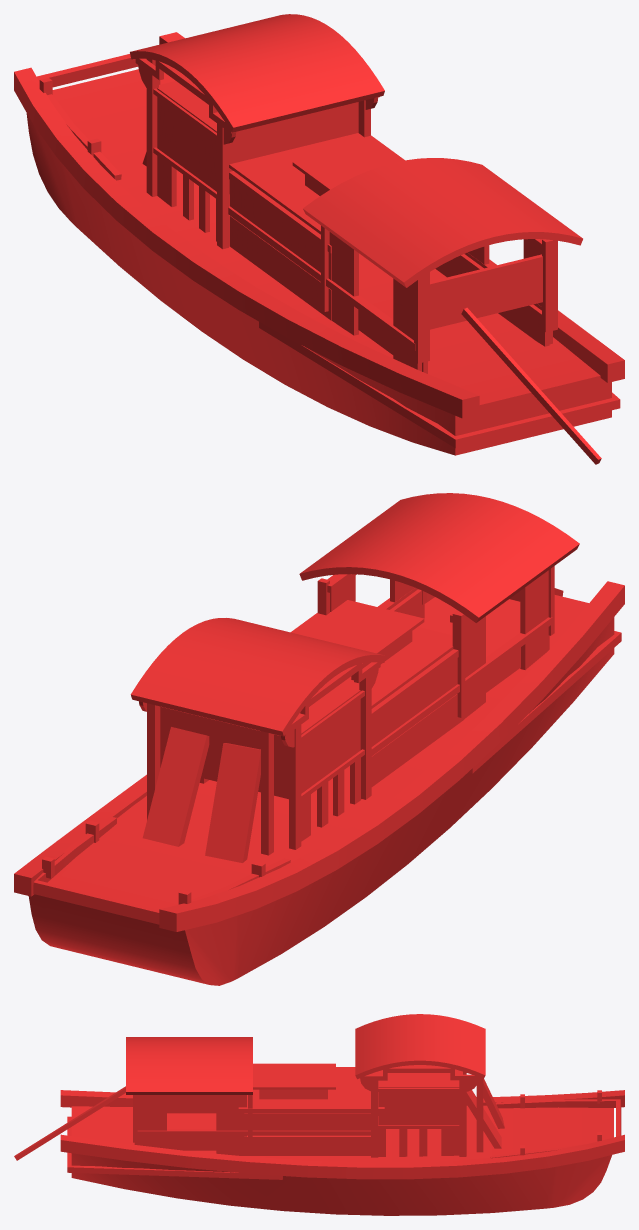
The model's file is redBoot.FBX.
3 renders of one model, top to bottom at view 1: azimuth 30°, elevation 25°; view 2: azimuth 150°, elevation 25°; view 3: azimuth 270°, elevation 25°, orthographic. The views are drawn at different scales.
Visible parts, largest first — view 1: Box004; view 2: Box004; view 3: Box004.
Part boxes in pixels (x1,y1,x2,y2): Box004: (14,14,624,464); Box004: (14,493,624,985); Box004: (14,1014,624,1215).
Bounding box in the file's own units: 122 × 127 × 456.
